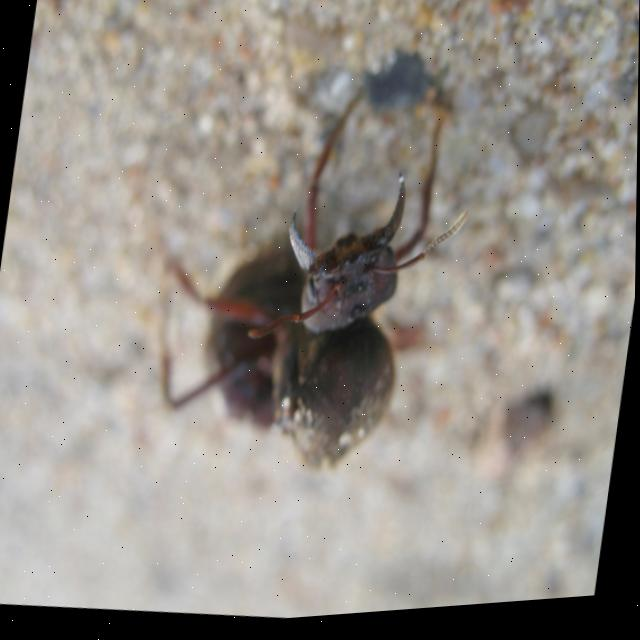Alive-Female-Dealate: (124, 61, 486, 503)
